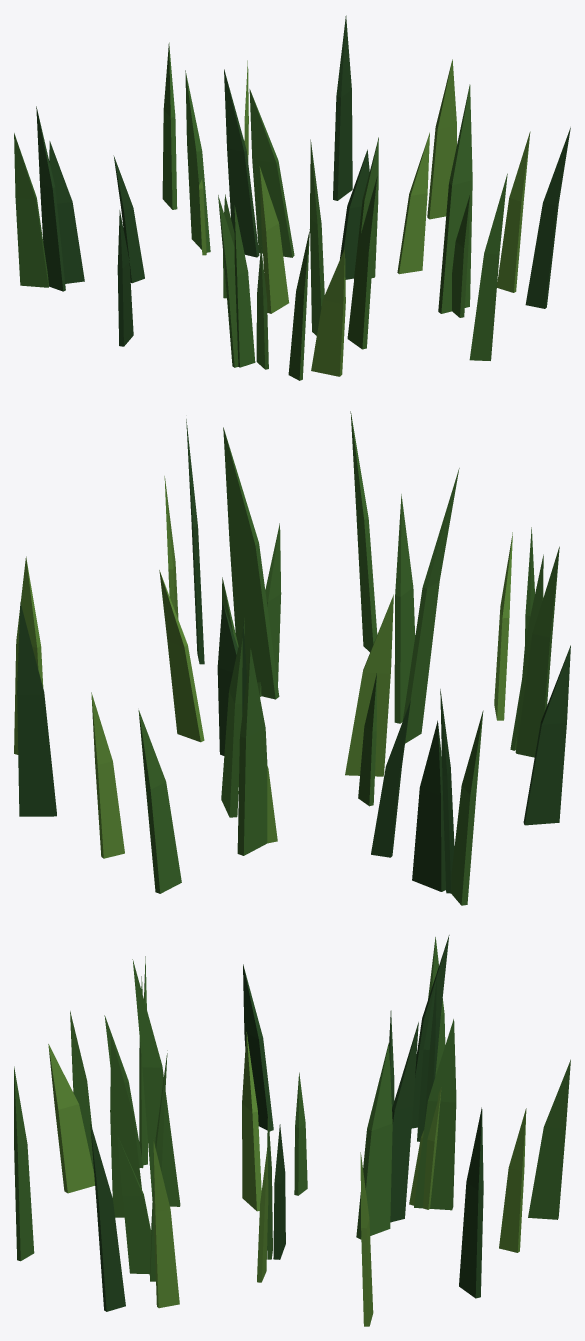
File: grass_clump_a.glb
The picture shows the model from 3 angles, top to bottom: view 1: azimuth 30°, elevation 25°; view 2: azimuth 150°, elevation 25°; view 3: azimuth 270°, elevation 25°; orthographic projection. The views are drawn at different scales.
Parts seen in each view (by area): view 1: Grass_1, Grass_2, Grass_3, Grass_4; view 2: Grass_2, Grass_1, Grass_4, Grass_3; view 3: Grass_2, Grass_1, Grass_4, Grass_3.
Boxes of the visible parts, left/top/right/bottom form: Grass_1: left=36, top=15, right=570, bottom=346; Grass_2: left=185, top=70, right=472, bottom=367; Grass_3: left=14, top=42, right=507, bottom=380; Grass_4: left=199, top=59, right=530, bottom=376; Grass_2: left=221, top=427, right=559, bottom=855; Grass_1: left=17, top=419, right=570, bottom=893; Grass_4: left=14, top=476, right=512, bottom=858; Grass_3: left=138, top=411, right=543, bottom=905; Grass_2: left=110, top=956, right=456, bottom=1281; Grass_1: left=90, top=935, right=483, bottom=1311; Grass_4: left=48, top=1032, right=526, bottom=1326; Grass_3: left=14, top=937, right=570, bottom=1274.
Bounding box in the file's own units: 1.38 × 0.6949 × 1.49.
